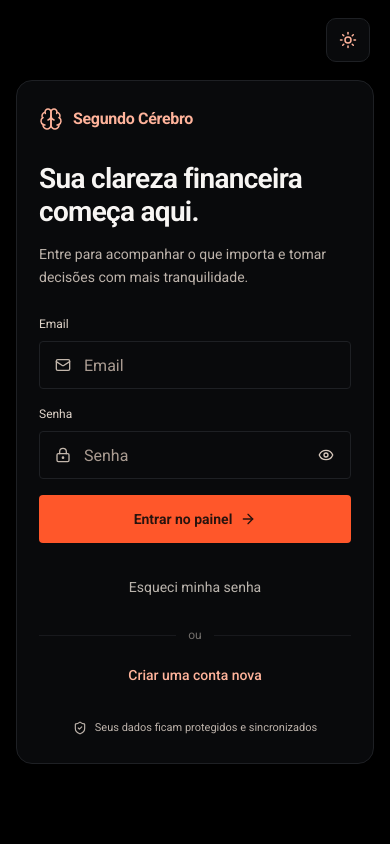
Scenario: keeps visible labels, password visibility and existing login behavior
Later steps or results of the test are not shown.
Type "test@example.com" into the field labelled "Email".
click(195, 365); type("test@example.com")  # box [39,341,351,389]
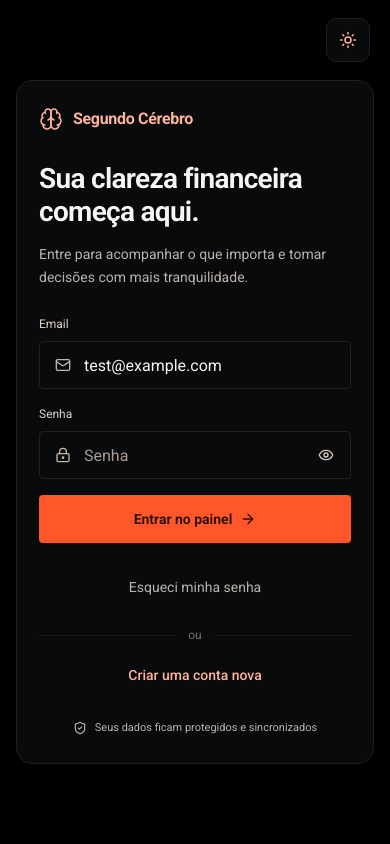
Type "test-password" into the password field labelled "Senha".
click(195, 455); type("test-password")  # box [39,431,351,479]
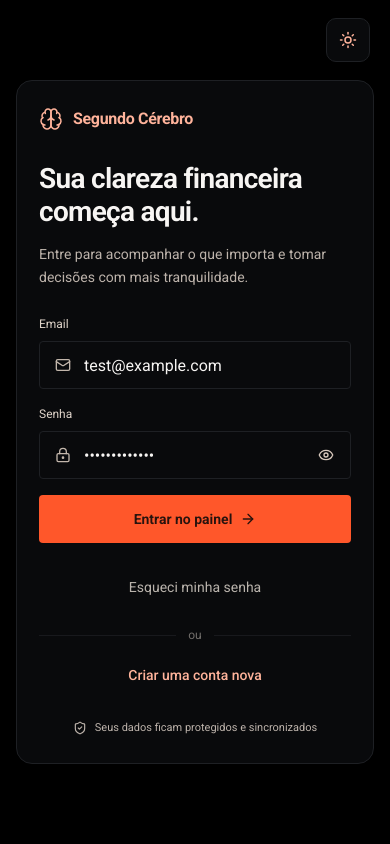
Click the button named "Mostrar senha".
click(326, 455)  # box [308,437,344,473]
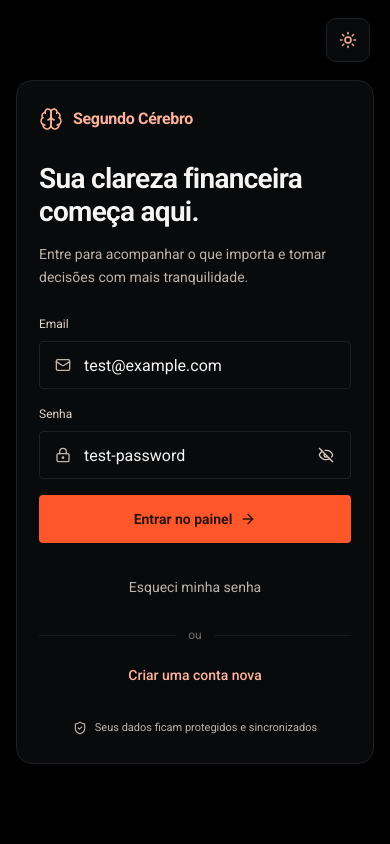
Expected: the field labelled "Senha" shows its text, [39,431,351,479]
